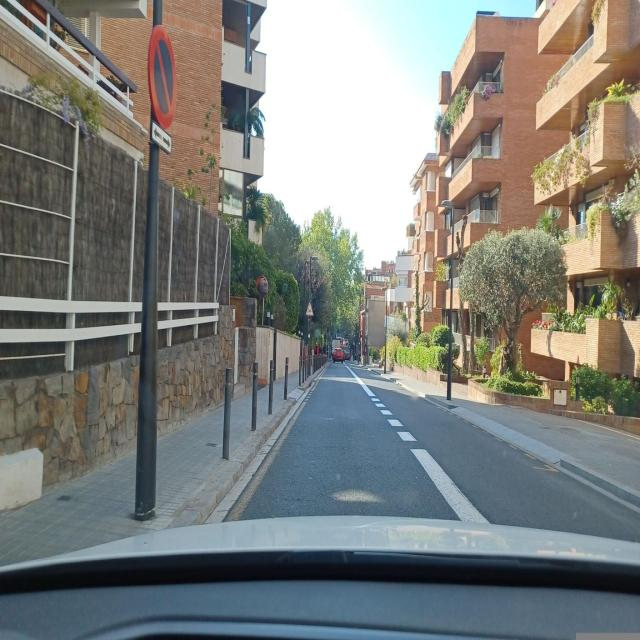forb_stopping: (149, 23, 177, 128)
